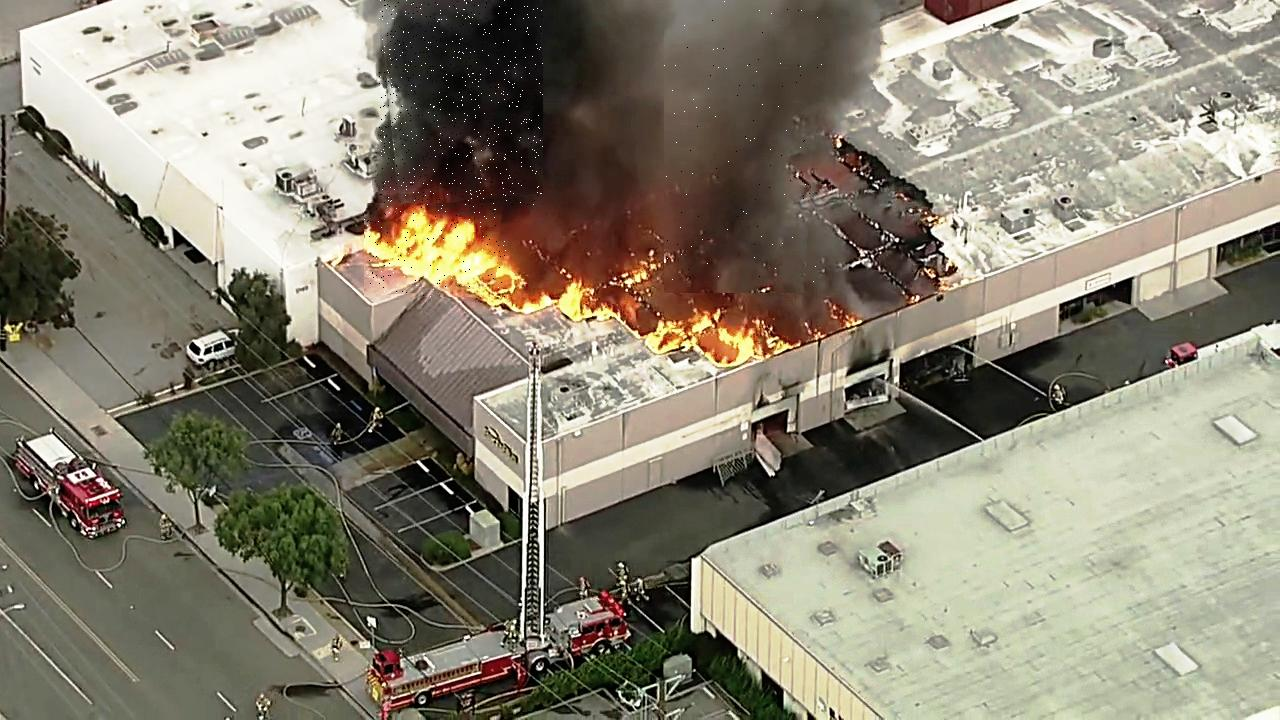fire: (365, 203, 507, 297)
smoke: (664, 0, 823, 293), (379, 0, 543, 208)
